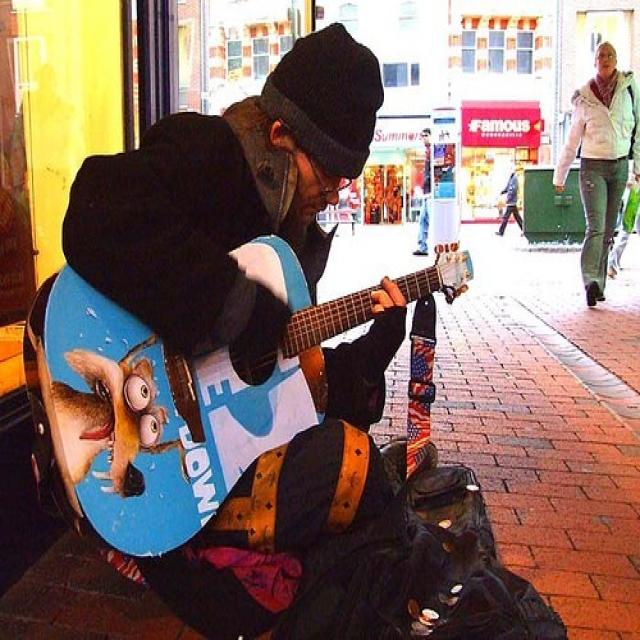guitar: (22, 233, 477, 580)
